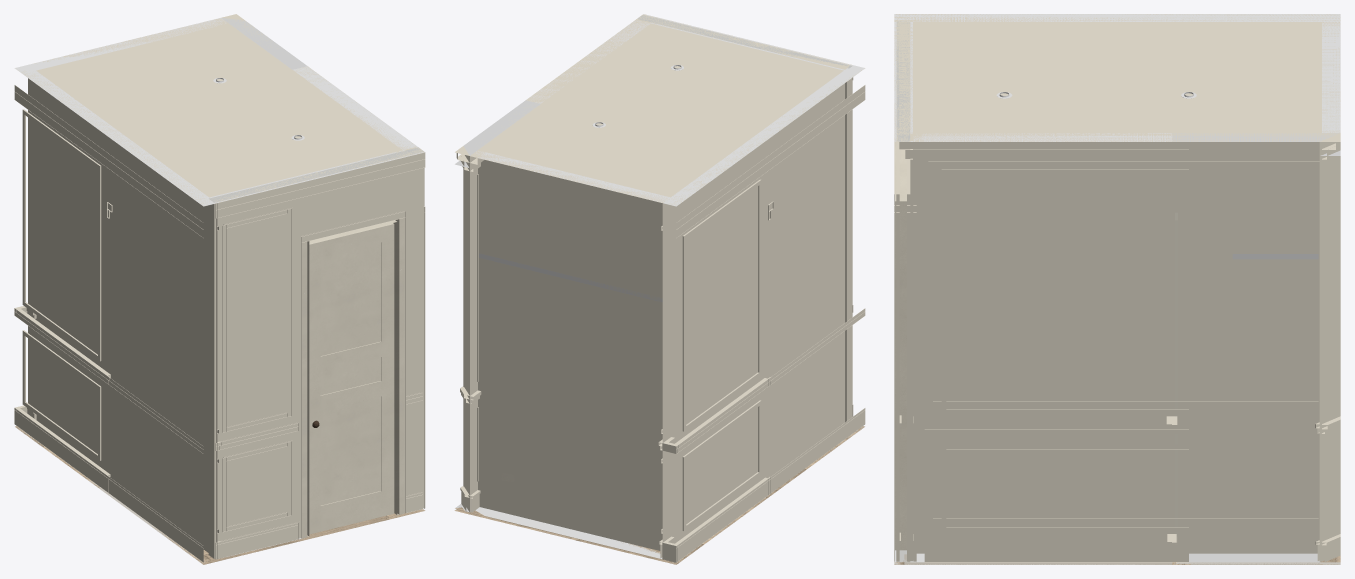
File: loli-closet-1f8619e45b76.glb
3 views of the same model, side by side, from view 1: azimuth 30°, elevation 25°; view 2: azimuth 150°, elevation 25°; view 3: azimuth 270°, elevation 25° (orthographic). The views are drawn at different scales.
Visible parts, largest first — view 1: loli-closet-6a1144f4e43410bb, loli-closet-0e637d2be41161fb, loli-closet-2575515a05775d9e, loli-closet-5b37b110dc0e2cdc, loli-closet-d6b1bc8c737b28e2, loli-closet-e1ae12ec9cba52a2, loli-closet-609bc1027670cc96, loli-closet-2c29ddcb8551cb02, loli-closet-e54d813e60c9e7c4, loli-closet-8c325fd3303e2546, loli-closet-cff4566edbc5d5ad, loli-closet-9d632b693d1b5808 (+16 smaller); view 2: loli-closet-e1ae12ec9cba52a2, loli-closet-6a1144f4e43410bb, loli-closet-2575515a05775d9e, loli-closet-0e637d2be41161fb, loli-closet-1c7325212038a6e7, loli-closet-2c29ddcb8551cb02, loli-closet-e54d813e60c9e7c4, loli-closet-cff4566edbc5d5ad, loli-closet-cc15fd6f291c811e, loli-closet-f6f53edb039cffb5, loli-closet-3b0077416469e01b, loli-closet-507cee9bdbce9ceb (+6 smaller); view 3: loli-closet-03bdd0165789d12b, loli-closet-1c7325212038a6e7, loli-closet-2575515a05775d9e, loli-closet-1bcbe5547b2cfbdc, loli-closet-92c333610bf7beb4, loli-closet-a8b6749dbb482e83, loli-closet-aaf71131b60d1226, loli-closet-b6646e2e222b858d, loli-closet-0b1205313859304a, loli-closet-b000e8b10159de15, loli-closet-6a1144f4e43410bb, loli-closet-d6b1bc8c737b28e2 (+12 smaller).
Boxes of the visible parts, x1=… form: loli-closet-6a1144f4e43410bb: x1=15, y1=65, x2=215, y2=562; loli-closet-0e637d2be41161fb: x1=208, y1=146, x2=424, y2=559; loli-closet-2575515a05775d9e: x1=16, y1=14, x2=424, y2=205; loli-closet-5b37b110dc0e2cdc: x1=309, y1=223, x2=394, y2=534; loli-closet-d6b1bc8c737b28e2: x1=302, y1=218, x2=404, y2=538; loli-closet-e1ae12ec9cba52a2: x1=28, y1=18, x2=226, y2=408; loli-closet-609bc1027670cc96: x1=215, y1=152, x2=425, y2=218; loli-closet-2c29ddcb8551cb02: x1=14, y1=408, x2=203, y2=562; loli-closet-e54d813e60c9e7c4: x1=14, y1=85, x2=203, y2=237; loli-closet-8c325fd3303e2546: x1=222, y1=209, x2=291, y2=432; loli-closet-cff4566edbc5d5ad: x1=22, y1=109, x2=101, y2=361; loli-closet-9d632b693d1b5808: x1=307, y1=219, x2=398, y2=536; loli-closet-e1ae12ec9cba52a2: x1=470, y1=151, x2=670, y2=558; loli-closet-6a1144f4e43410bb: x1=662, y1=65, x2=864, y2=543; loli-closet-2575515a05775d9e: x1=455, y1=14, x2=864, y2=205; loli-closet-0e637d2be41161fb: x1=637, y1=14, x2=852, y2=422; loli-closet-1c7325212038a6e7: x1=463, y1=100, x2=540, y2=511; loli-closet-2c29ddcb8551cb02: x1=676, y1=408, x2=865, y2=562; loli-closet-e54d813e60c9e7c4: x1=676, y1=85, x2=865, y2=237; loli-closet-cff4566edbc5d5ad: x1=682, y1=179, x2=761, y2=431; loli-closet-cc15fd6f291c811e: x1=470, y1=24, x2=655, y2=171; loli-closet-f6f53edb039cffb5: x1=682, y1=400, x2=761, y2=530; loli-closet-3b0077416469e01b: x1=454, y1=426, x2=864, y2=564; loli-closet-507cee9bdbce9ceb: x1=673, y1=378, x2=768, y2=452; loli-closet-03bdd0165789d12b: x1=913, y1=133, x2=1172, y2=562; loli-closet-1c7325212038a6e7: x1=1172, y1=133, x2=1340, y2=562; loli-closet-2575515a05775d9e: x1=894, y1=14, x2=1340, y2=141; loli-closet-1bcbe5547b2cfbdc: x1=924, y1=542, x2=1188, y2=562; loli-closet-92c333610bf7beb4: x1=928, y1=161, x2=1319, y2=405; loli-closet-a8b6749dbb482e83: x1=916, y1=534, x2=1319, y2=553; loli-closet-aaf71131b60d1226: x1=913, y1=141, x2=1188, y2=159; loli-closet-b6646e2e222b858d: x1=928, y1=436, x2=1319, y2=523; loli-closet-0b1205313859304a: x1=941, y1=169, x2=1188, y2=414; loli-closet-b000e8b10159de15: x1=916, y1=416, x2=1319, y2=425; loli-closet-6a1144f4e43410bb: x1=894, y1=14, x2=1340, y2=21; loli-closet-d6b1bc8c737b28e2: x1=895, y1=142, x2=906, y2=550.
Bounding box in the file's own units: 1.95 × 3.03 × 2.88.
Materials: 17 (3 with a texture image).
